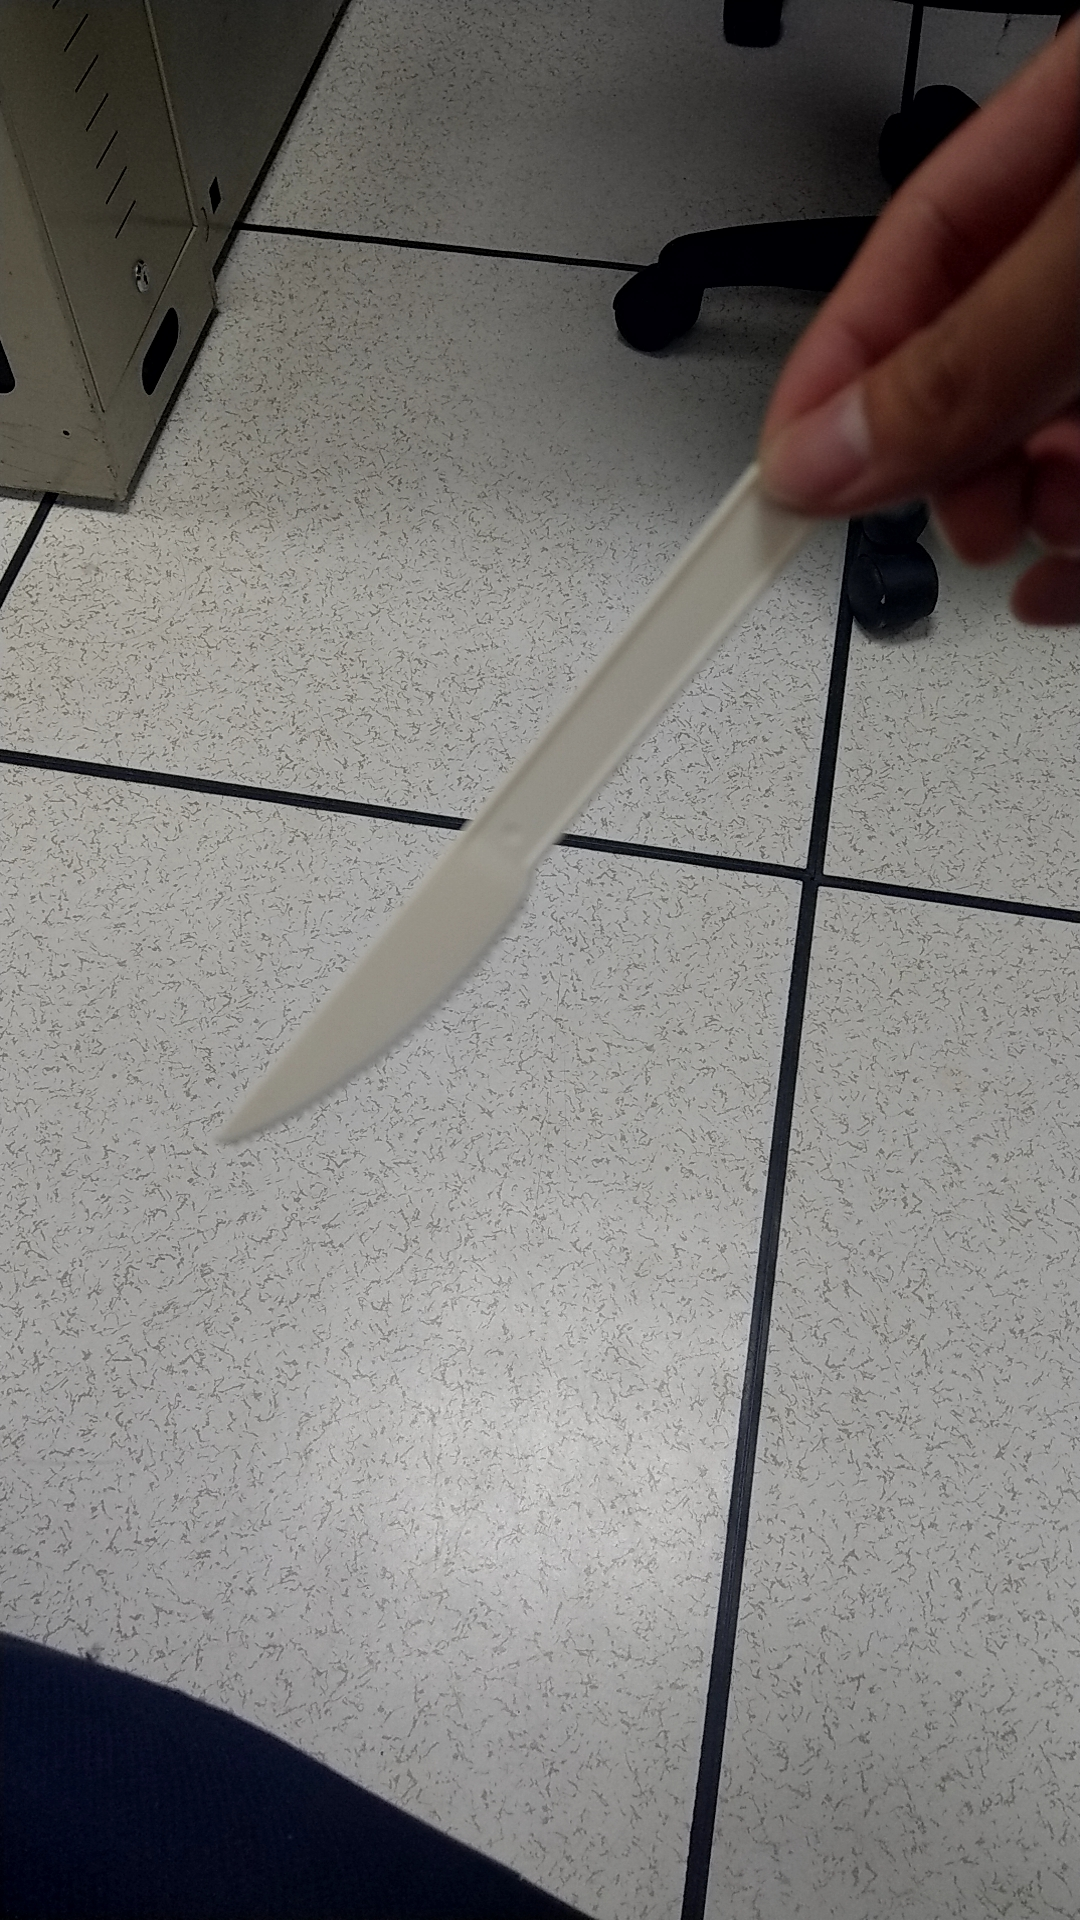knife: (211, 479, 818, 1172)
